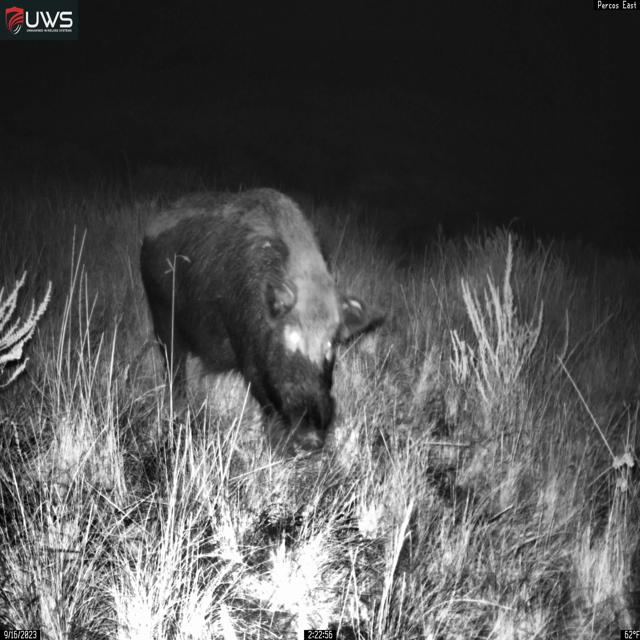pig: (139, 186, 388, 461)
